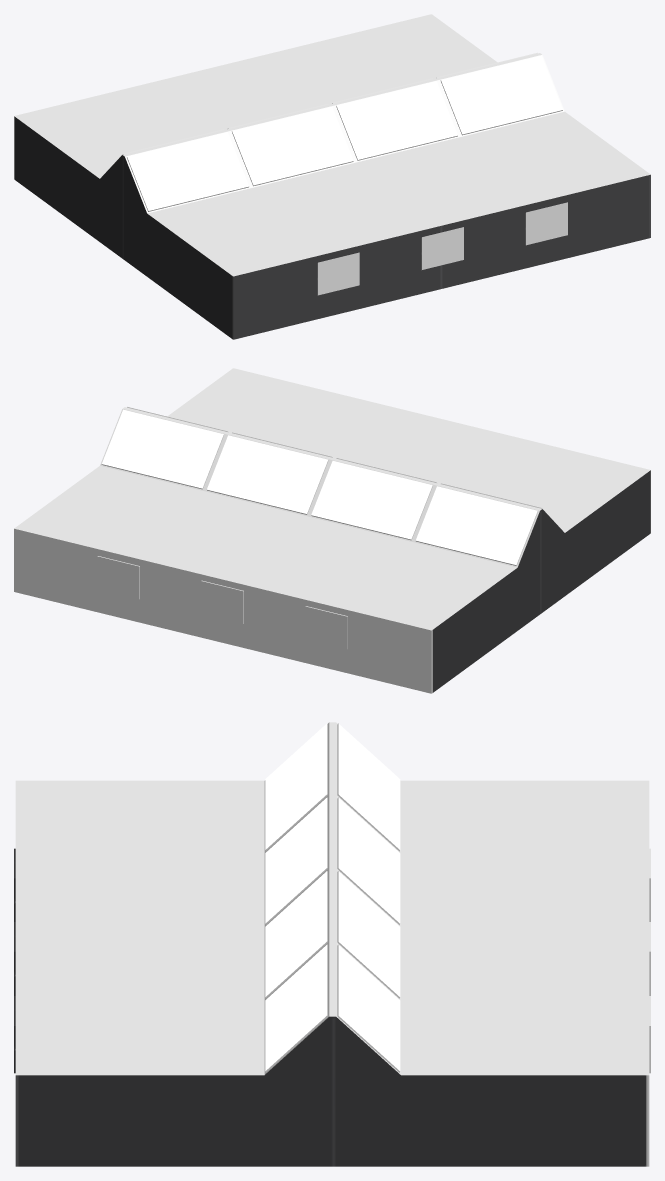
The model's file is luz_2.glb.
3 renders of one model, top to bottom at view 1: azimuth 30°, elevation 25°; view 2: azimuth 150°, elevation 25°; view 3: azimuth 270°, elevation 25°, orthographic. The views are drawn at different scales.
Visible parts, largest first — view 1: Cube; view 2: Cube; view 3: Cube.
Part boxes in pixels (bbox=[...]): Cube: bbox=[14, 14, 650, 339]; Cube: bbox=[14, 368, 650, 693]; Cube: bbox=[14, 722, 650, 1166].
Bounding box in the file's own units: 19.76 × 4.7 × 18.07.
Materials: 2 (1 with a texture image).
